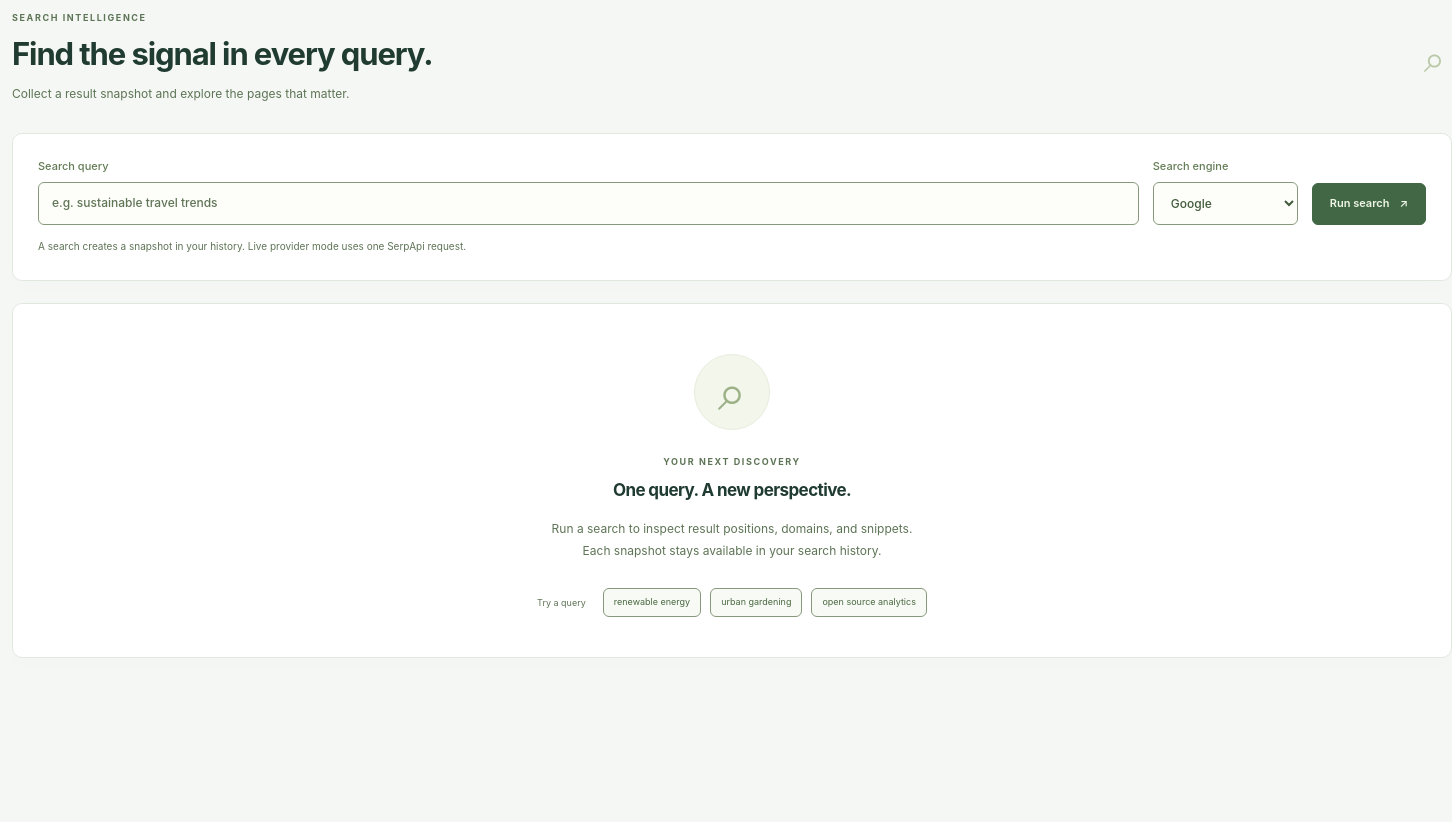
it: Search Explorer › shows provider failure and the saved failed snapshot without successful results
Type "renewable energy" into the field labelled "Search query" at [588, 203], box [38, 182, 1139, 225]
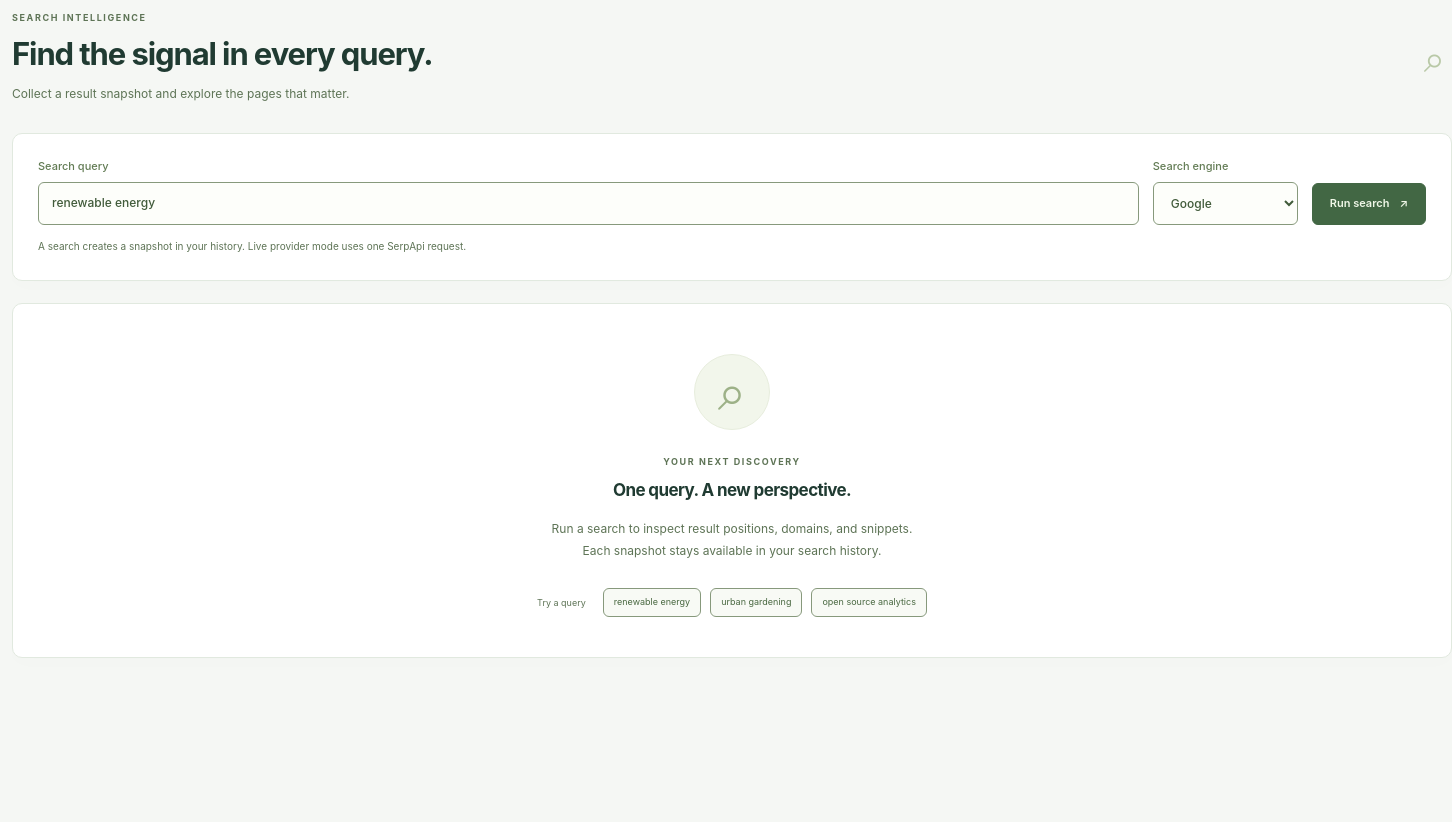
Click the button "Run search ↗" at [1369, 204], box [1312, 183, 1426, 225]
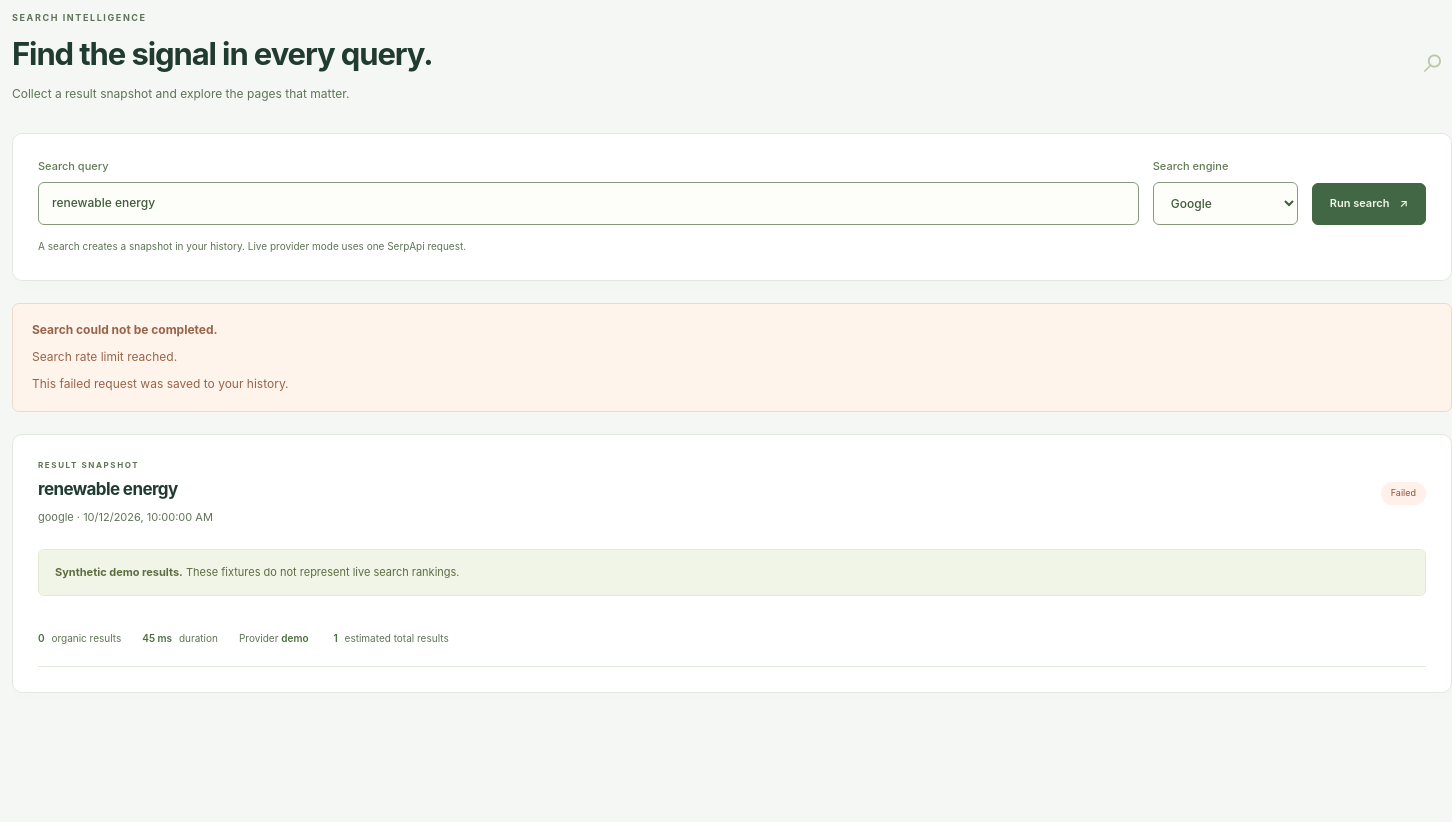
Now the message shows "Search rate limit reached.", box [32, 349, 177, 364]
Now the message shows "saved to your history", box [32, 376, 289, 392]
